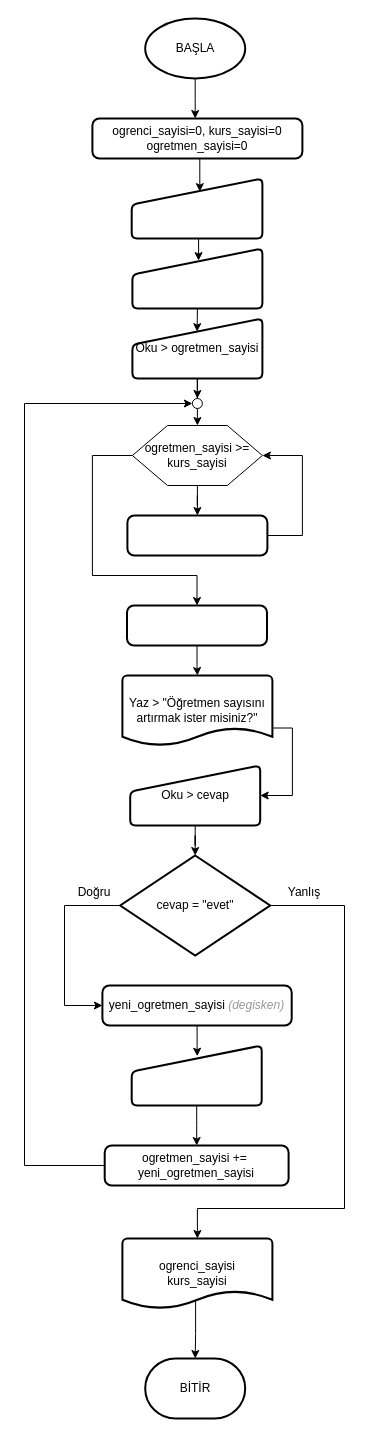
This 370x1436 diagram has some shape labels left out. Here are the shapes that lost their labels. From the top down, the centre of each, then its label:
[196,208]: Oku > ogrenci_sayisi
[197,278]: Oku > kurs_sayisi
[197,535]: ogrenci_sayisi +=20 kurs_sayisi +=1
[197,625]: cevap (degisken)
[196,1075]: Oku > yeni_ogretmen_sayisi
